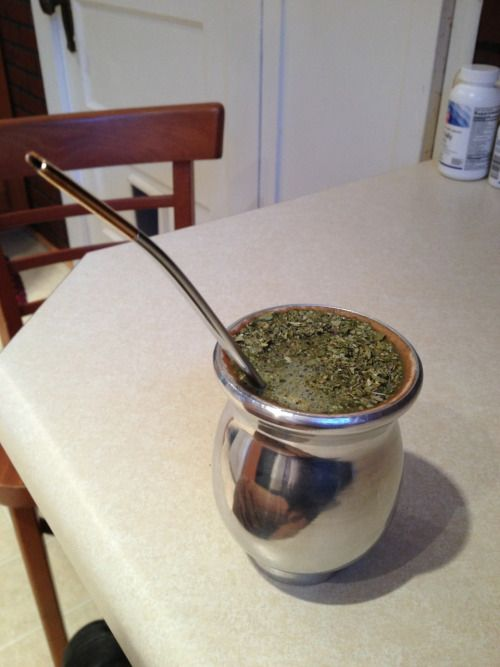mate: (212, 305, 426, 588)
